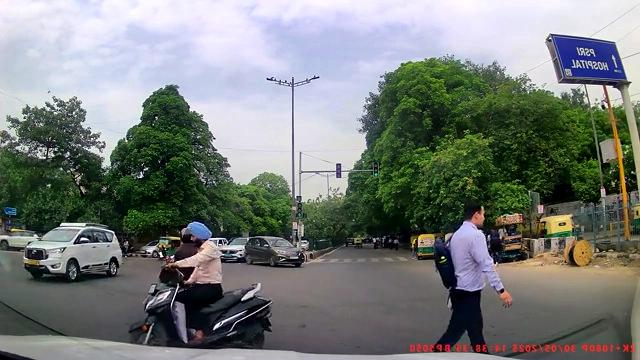motorcycle_with_helmet: (130, 220, 275, 347)
